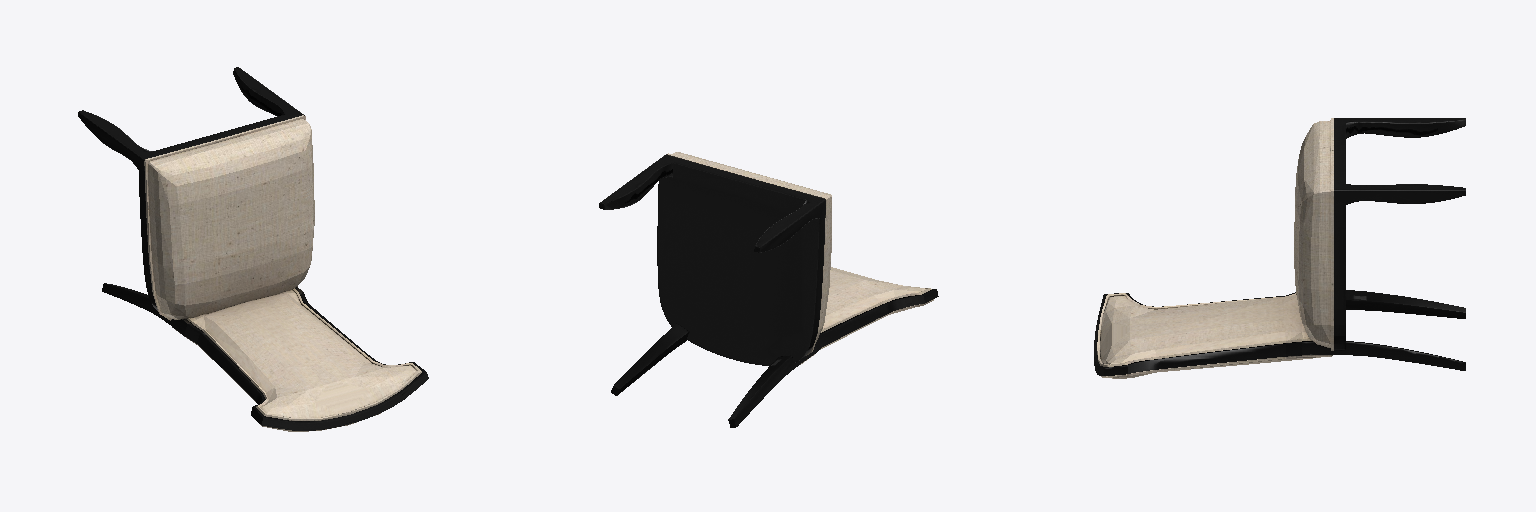
3 renders of one model, left to right at view 1: azimuth 30°, elevation 25°; view 2: azimuth 150°, elevation 25°; view 3: azimuth 270°, elevation 25°, orthographic.
Bounding box in the file's own units: 0.4613 × 0.5347 × 0.8733.
Materials: 1 (1 with a texture image).